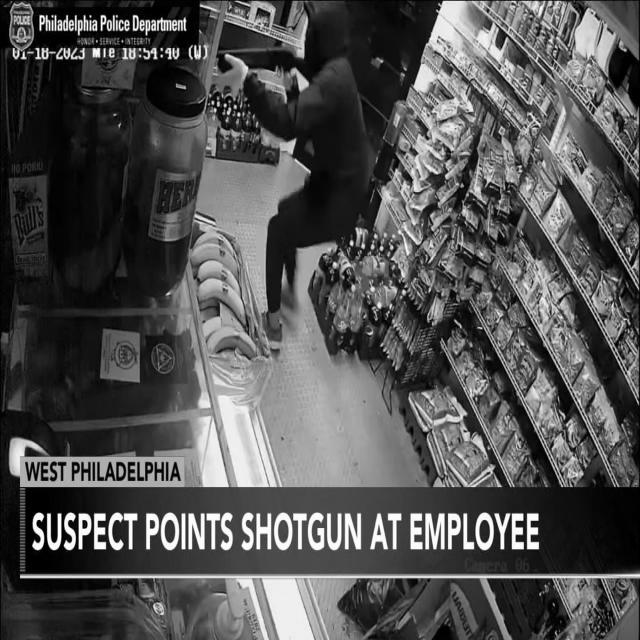weapon: (214, 40, 307, 110)
